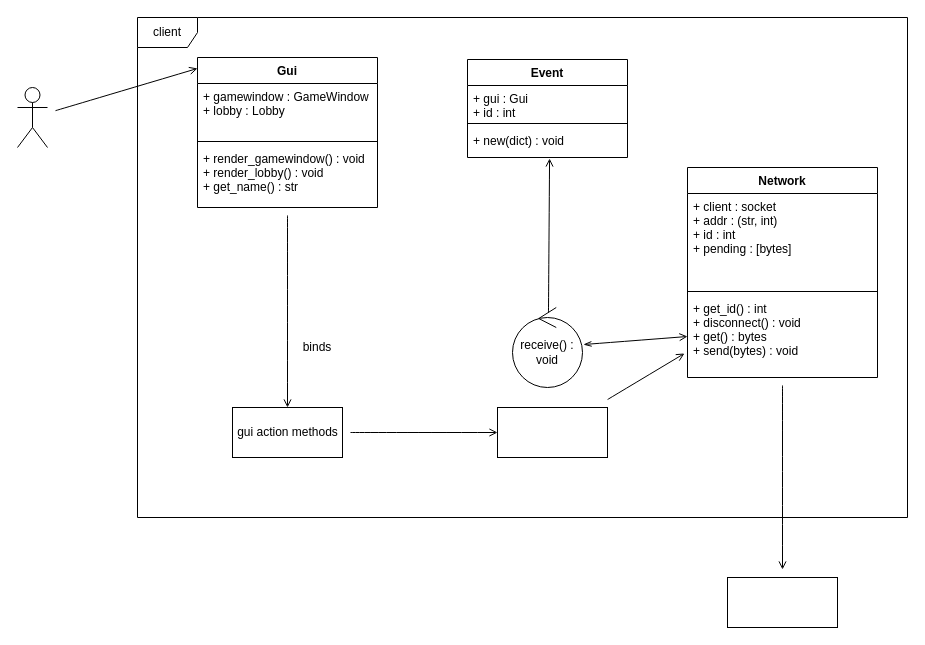
The diagram is 925 pixels wide and 645 high, and some of its shapes have lost their labels. Here are the shapes that lost their labels. From the top down, the centre of each, then its label:
the point at 32,117: User
the point at 552,432: send(dict) : void
the point at 782,602: Server
